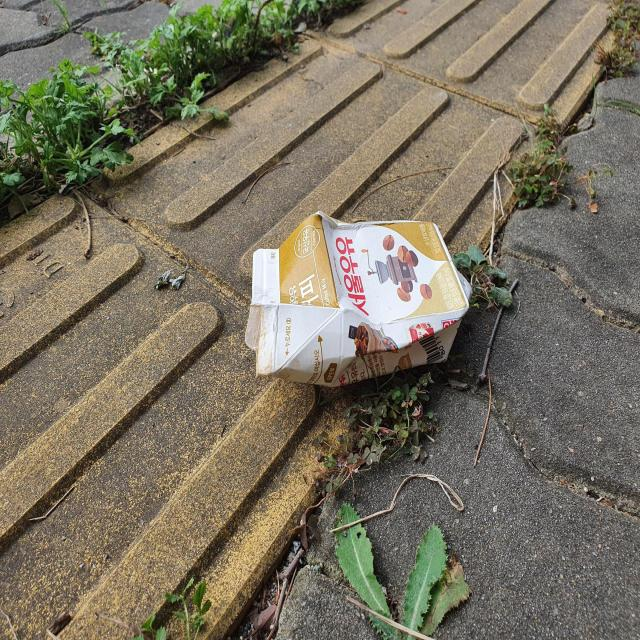paperpack: (245, 212, 470, 386)
